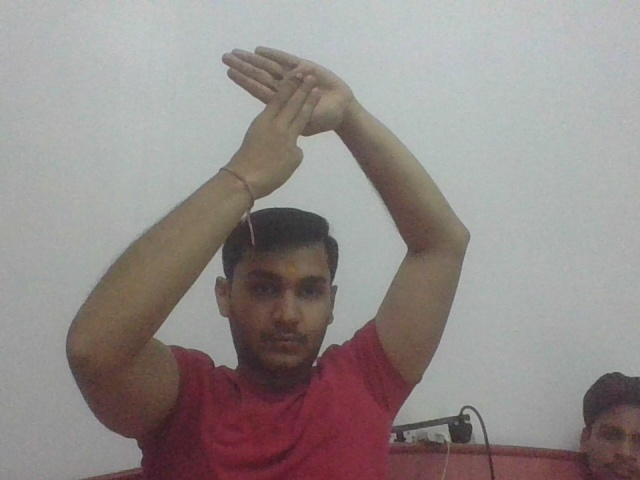M: (217, 42, 344, 161)
